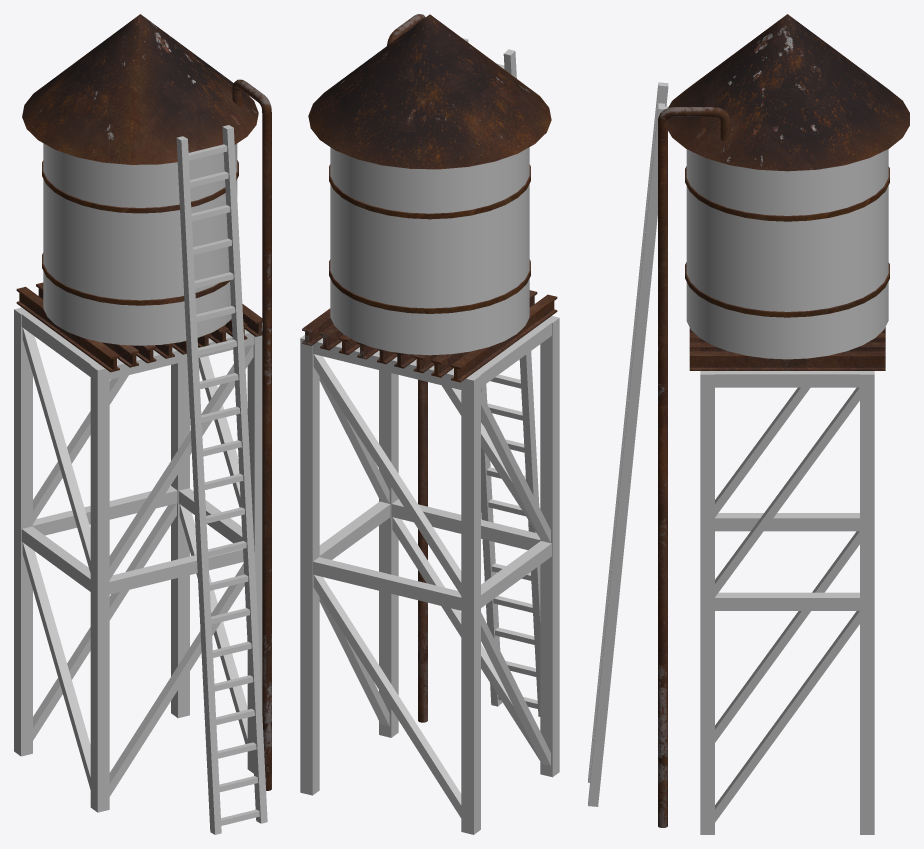
3 renders of one model, left to right at view 1: azimuth 30°, elevation 25°; view 2: azimuth 150°, elevation 25°; view 3: azimuth 270°, elevation 25°, orthographic. The views are drawn at different scales.
Parts seen in each view (by area): view 1: Metal, polySurface44, Ladder, polySurface26, polySurface27, polySurface25, polySurface24, polySurface37, polySurface35, polySurface39, polySurface33, polySurface38 (+9 smaller); view 2: polySurface44, Metal, polySurface27, polySurface25, polySurface26, Ladder, polySurface24, polySurface38, polySurface32, polySurface40, polySurface39, polySurface42 (+9 smaller); view 3: Metal, polySurface44, Ladder, polySurface24, polySurface25, polySurface41, polySurface36, polySurface34, polySurface43, polySurface28, polySurface37, polySurface35.
Part boxes in pixels (x1,y1,x2,y2): Metal: (16, 14, 271, 790); polySurface44: (43, 143, 237, 345); Ladder: (176, 125, 267, 834); polySurface26: (90, 363, 109, 812); polySurface27: (14, 307, 32, 756); polySurface25: (171, 361, 189, 718); polySurface24: (247, 326, 262, 773); polySurface37: (22, 542, 90, 789); polySurface35: (22, 328, 90, 572); polySurface39: (109, 563, 244, 796); polySurface33: (109, 345, 253, 579); polySurface38: (33, 503, 176, 740); polySurface44: (330, 147, 529, 355); Metal: (302, 14, 557, 722); polySurface27: (461, 373, 480, 834); polySurface25: (300, 335, 319, 795); polySurface26: (540, 316, 559, 777); Ladder: (462, 38, 540, 716); polySurface24: (379, 350, 398, 737); polySurface38: (313, 575, 461, 817); polySurface32: (313, 354, 461, 595); polySurface40: (313, 557, 461, 610); polySurface39: (392, 517, 540, 760); polySurface42: (391, 499, 540, 549); Metal: (658, 14, 909, 827); polySurface44: (686, 149, 888, 359); Ladder: (588, 82, 668, 806); polySurface24: (700, 371, 714, 834); polySurface25: (860, 371, 874, 834); polySurface41: (715, 592, 859, 610); polySurface36: (715, 611, 859, 822); polySurface34: (715, 387, 859, 596); polySurface43: (715, 513, 859, 531); polySurface28: (715, 371, 859, 387); polySurface37: (715, 531, 859, 742); polySurface35: (715, 387, 810, 516).
Size of the model in its own units: 0.17 by 0.5917 by 0.2219.
